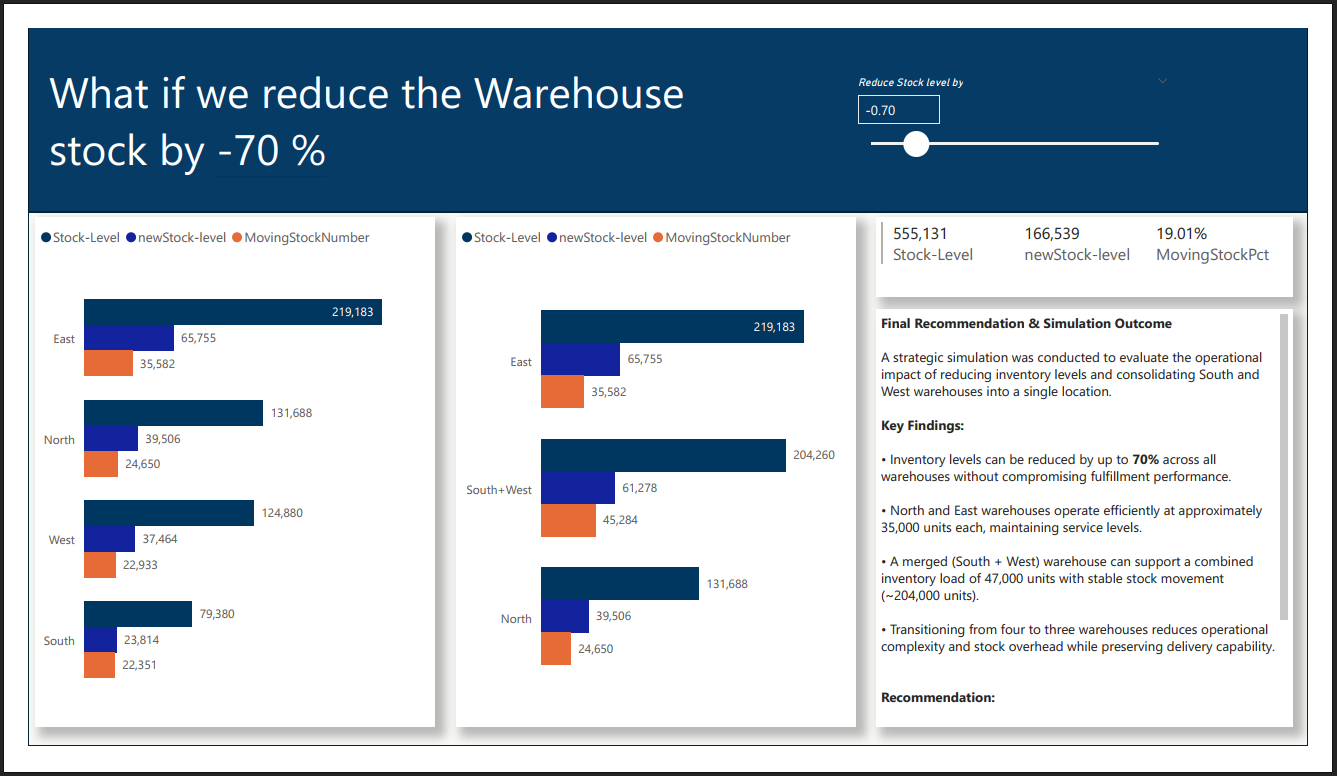

The dashboard page shown, as its layout file describes it:
{"tool":"powerbi","page":{"name":"Consolidation & What-If Analysis","canvas":[1280,720],"ordinal":2},"visuals":[{"type":"slicer","fields":{"Values":["Parameter.Parameter"]},"box":[816.7,43.3,335.6,96.7],"z":0},{"type":"clusteredBarChart","fields":{"Category":["warehouses.warehouseName"],"Y":["DAX-Measures.Stock-Level","DAX-Measures.newStock-level","DAX-Measures.MovingStockNumber"]},"box":[7.3,189.3,400,510],"z":1000},{"type":"clusteredBarChart","fields":{"Y":["DAX-Measures.Stock-Level","DAX-Measures.newStock-level","DAX-Measures.MovingStockNumber"],"Category":["warehouses.MergedWarehouseName"]},"box":[427.8,189.3,400,510],"z":2000},{"type":"textbox","box":[15.6,28.9,747.8,125.6],"z":3000},{"type":"multiRowCard","fields":{"Values":["DAX-Measures.Stock-Level","DAX-Measures.newStock-level","DAX-Measures.MovingStockPct"]},"box":[848.2,189.1,416.4,80],"z":4000},{"type":"textbox","box":[848.2,280.9,416.4,418.2],"z":5000}]}

Visuals, with their boxes on the page's 1280x720 design canvas (x1, y1, x2, y2). These are canvas units, not pixel positions in the 1337x776 screenshot, which may show the page scaled, cropped or inside an application window:
slicer - Parameter.Parameter: x1=817, y1=43, x2=1152, y2=140
clusteredBarChart - warehouses.warehouseName x DAX-Measures.Stock-Level: x1=7, y1=189, x2=407, y2=699
clusteredBarChart - DAX-Measures.Stock-Level x DAX-Measures.newStock-level: x1=428, y1=189, x2=828, y2=699
textbox: x1=16, y1=29, x2=763, y2=154
multiRowCard - DAX-Measures.Stock-Level x DAX-Measures.newStock-level: x1=848, y1=189, x2=1265, y2=269
textbox: x1=848, y1=281, x2=1265, y2=699
